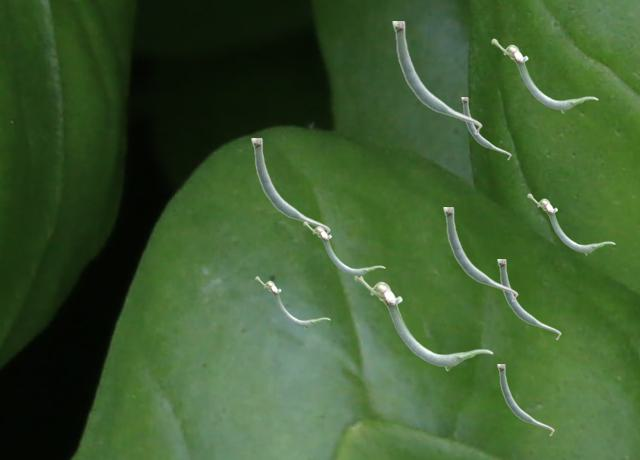french_bean: (354, 276, 492, 370), (392, 21, 481, 134), (491, 38, 597, 112), (251, 138, 329, 234), (443, 207, 517, 301), (527, 193, 614, 254), (497, 259, 560, 339), (303, 221, 384, 277), (497, 364, 553, 435), (255, 276, 329, 328), (461, 97, 510, 159)
